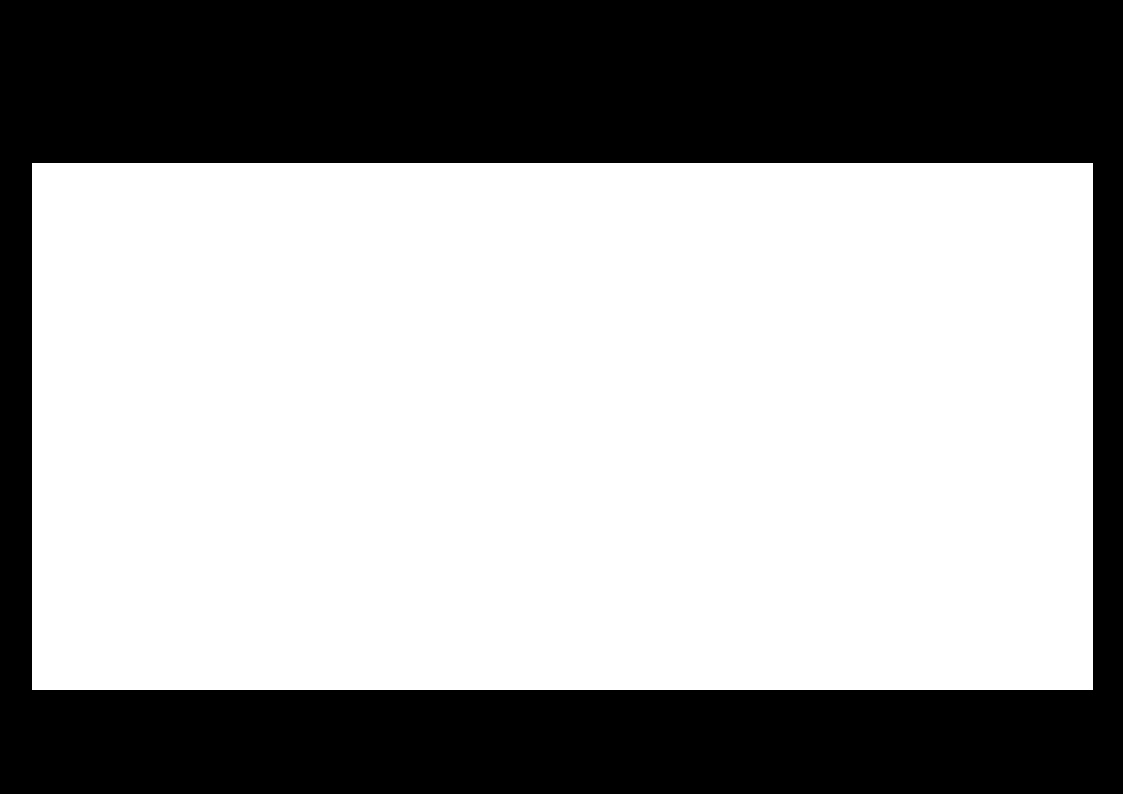table: (32, 163, 1092, 689)
